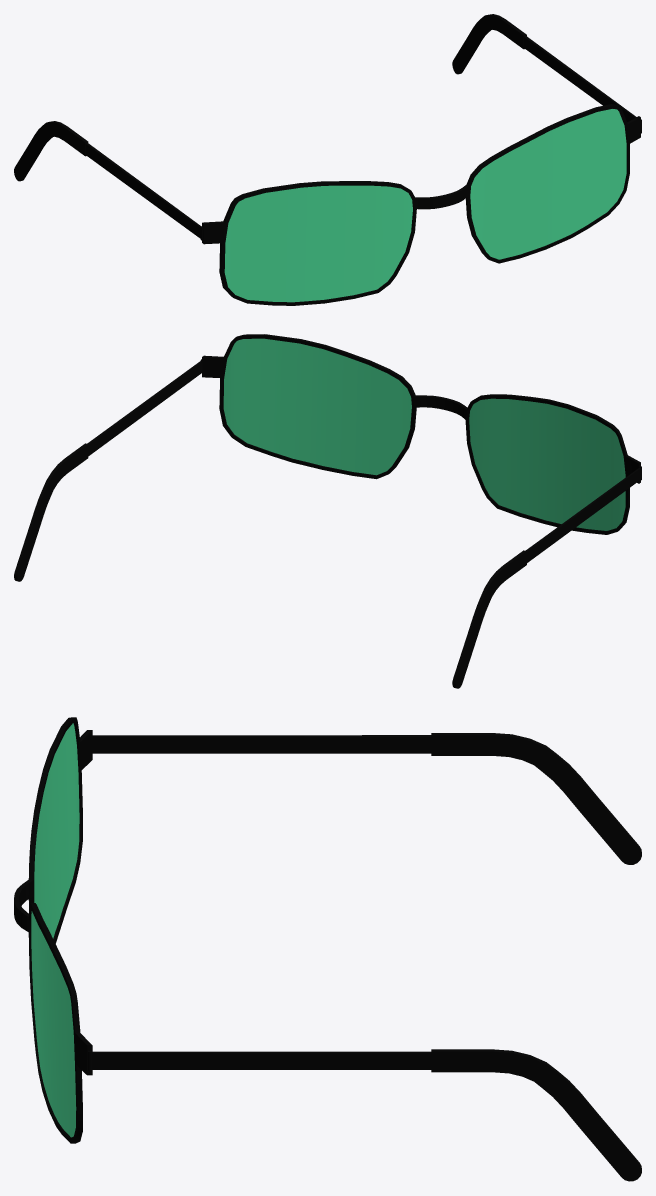
The model's file is glasses-12.glb.
The picture shows the model from 3 angles, top to bottom: view 1: azimuth 30°, elevation 25°; view 2: azimuth 150°, elevation 25°; view 3: azimuth 270°, elevation 25°; orthographic projection. The views are drawn at different scales.
Visible parts, largest first — view 1: glasses10.001; view 2: glasses10.001; view 3: glasses10.001.
Part boxes in pixels (x1=…): glasses10.001: x1=14, y1=14, x2=641, y2=305; glasses10.001: x1=14, y1=334, x2=641, y2=688; glasses10.001: x1=14, y1=717, x2=641, y2=1181.
Size of the model in its own units: 2.04 by 0.5517 by 1.7.
